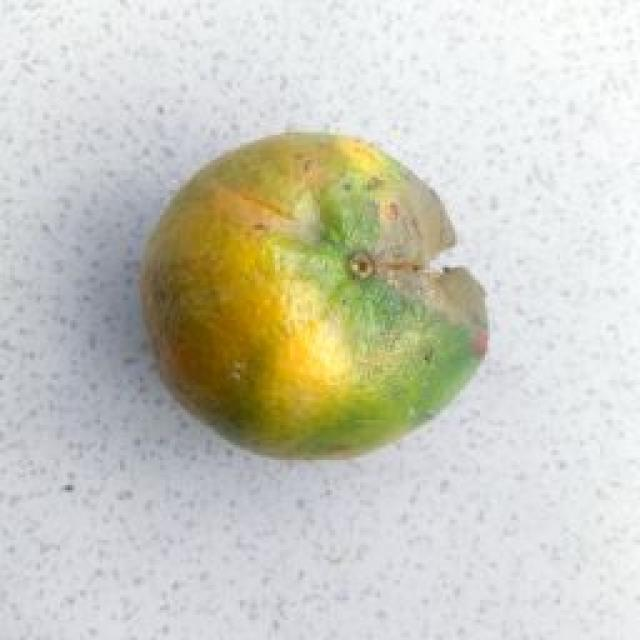Bad_Orange: (144, 132, 486, 457)
